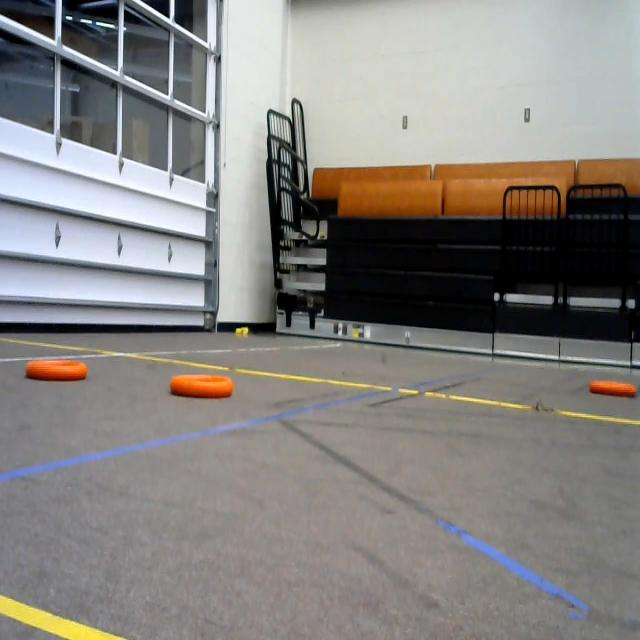note: (164, 365, 246, 401), (24, 355, 89, 389), (586, 373, 638, 402)
